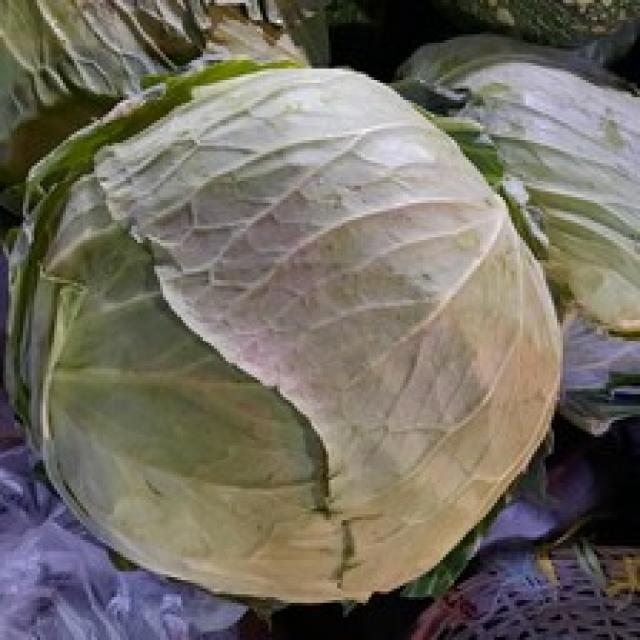Cabbage: (0, 57, 563, 609)
